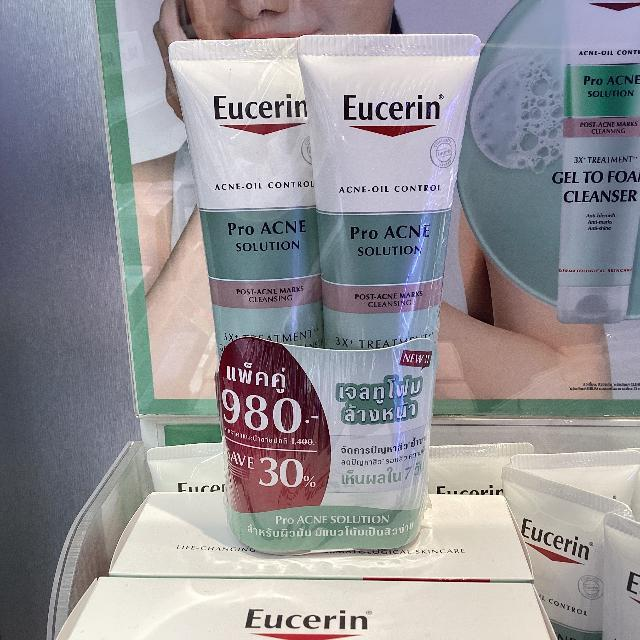Squeeze Tube: (157, 8, 482, 580), (166, 28, 495, 566)
